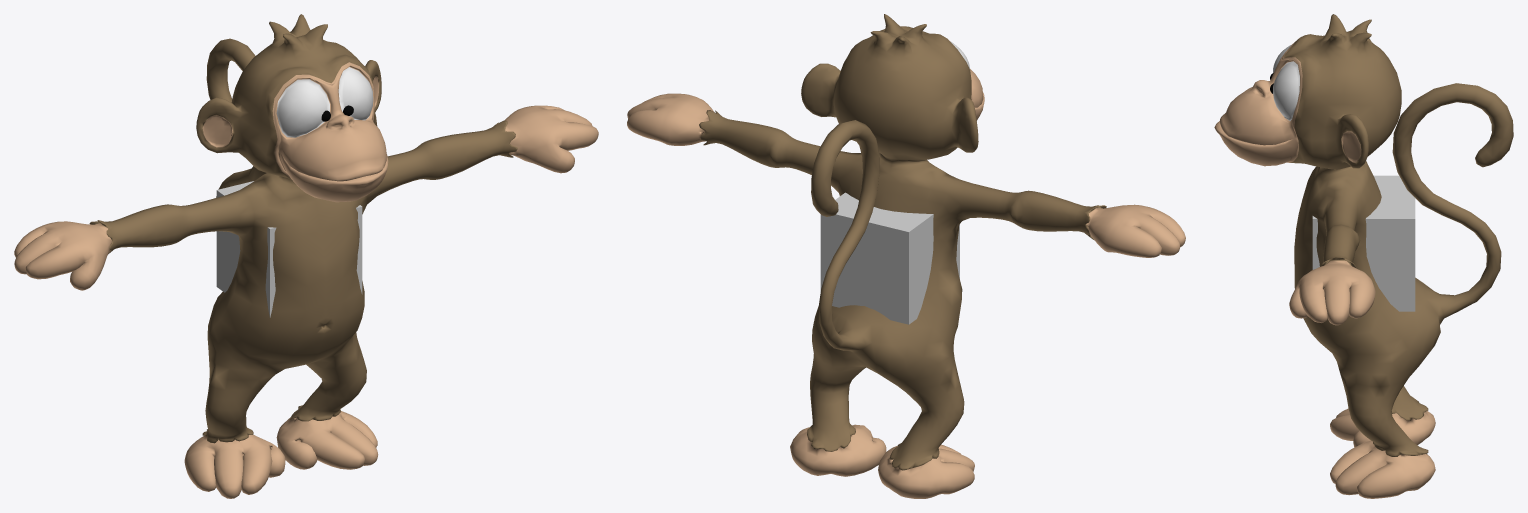
3 renders of one model, left to right at view 1: azimuth 30°, elevation 25°; view 2: azimuth 150°, elevation 25°; view 3: azimuth 270°, elevation 25°, orthographic. The views are drawn at different scales.
Visible parts, largest first — view 1: CMonk, Cube; view 2: CMonk, Cube; view 3: CMonk, Cube.
Boxes of the visible parts, x1,y1,x2,y2 form: CMonk: (14,14,598,498); Cube: (216,181,362,317); CMonk: (627,14,1185,498); Cube: (820,192,959,324); CMonk: (1214,14,1513,498); Cube: (1312,175,1415,311).
Size of the model in its own units: 12.45 by 5.85 by 9.46.
